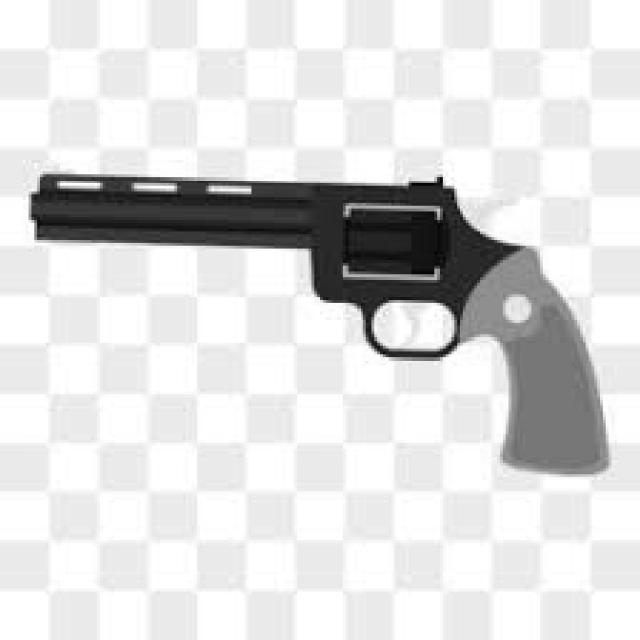gun: (26, 169, 611, 474)
